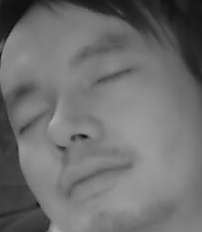blink: (96, 63, 133, 88), (18, 108, 52, 133)
mouth: (60, 157, 128, 200)
